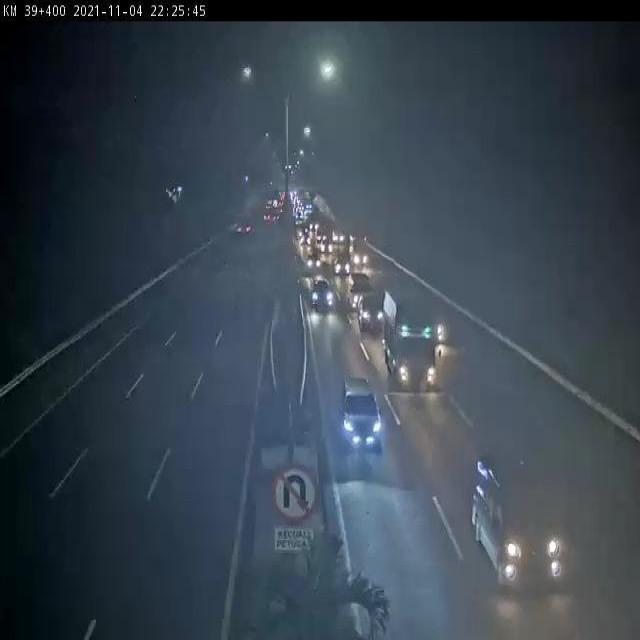car: (483, 462, 567, 598), (343, 367, 384, 453), (356, 283, 388, 332), (308, 272, 338, 313), (348, 270, 372, 306), (236, 212, 252, 245), (352, 240, 369, 271), (333, 221, 348, 247), (338, 253, 350, 275), (309, 253, 322, 271), (310, 216, 321, 236), (321, 241, 335, 256), (303, 231, 308, 248), (265, 212, 270, 225), (319, 232, 324, 244), (299, 219, 302, 229)
truck-m-: (378, 280, 447, 388)
